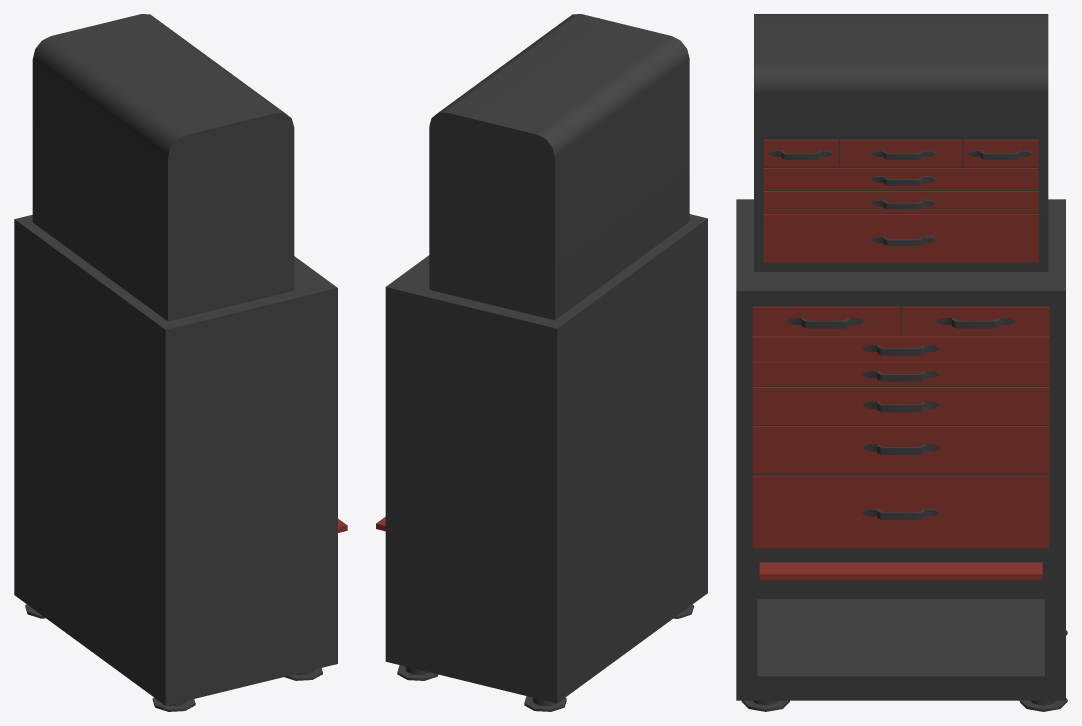
Rendered from tool shelf.fbx.
3 views of the same model, side by side, from view 1: azimuth 30°, elevation 25°; view 2: azimuth 150°, elevation 25°; view 3: azimuth 270°, elevation 25° (orthographic). The views are drawn at different scales.
Visible parts, largest first — view 1: Tool_box; view 2: Tool_box; view 3: Tool_box.
Boxes of the visible parts, x1=… form: Tool_box: x1=14, y1=14, x2=347, y2=711; Tool_box: x1=376, y1=14, x2=707, y2=711; Tool_box: x1=736, y1=14, x2=1067, y2=711.
Bounding box in the file's own units: 64.11 × 182 × 87.75.
